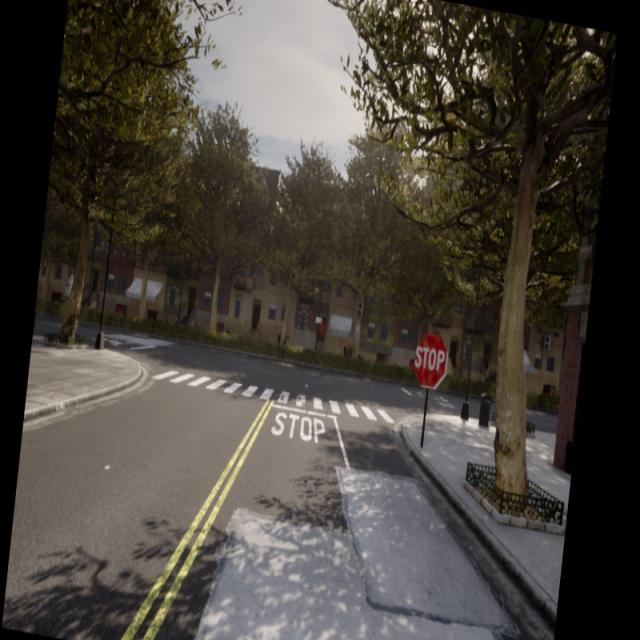stop sign: (411, 330, 449, 390)
